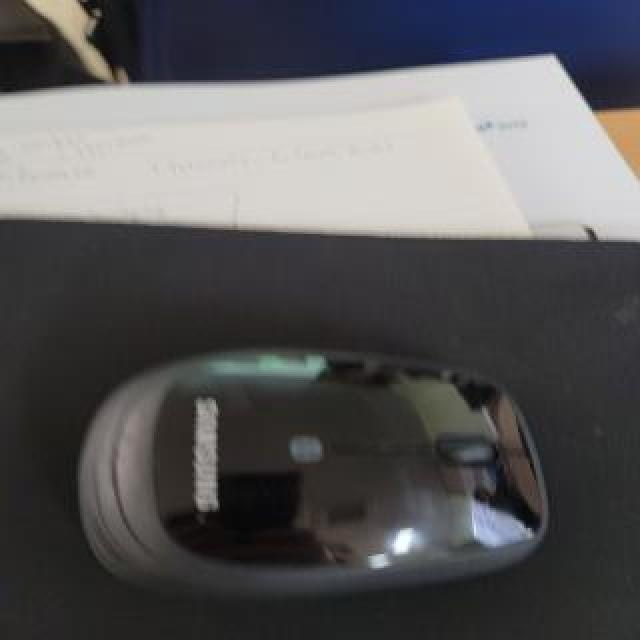mouse: (61, 328, 579, 616)
